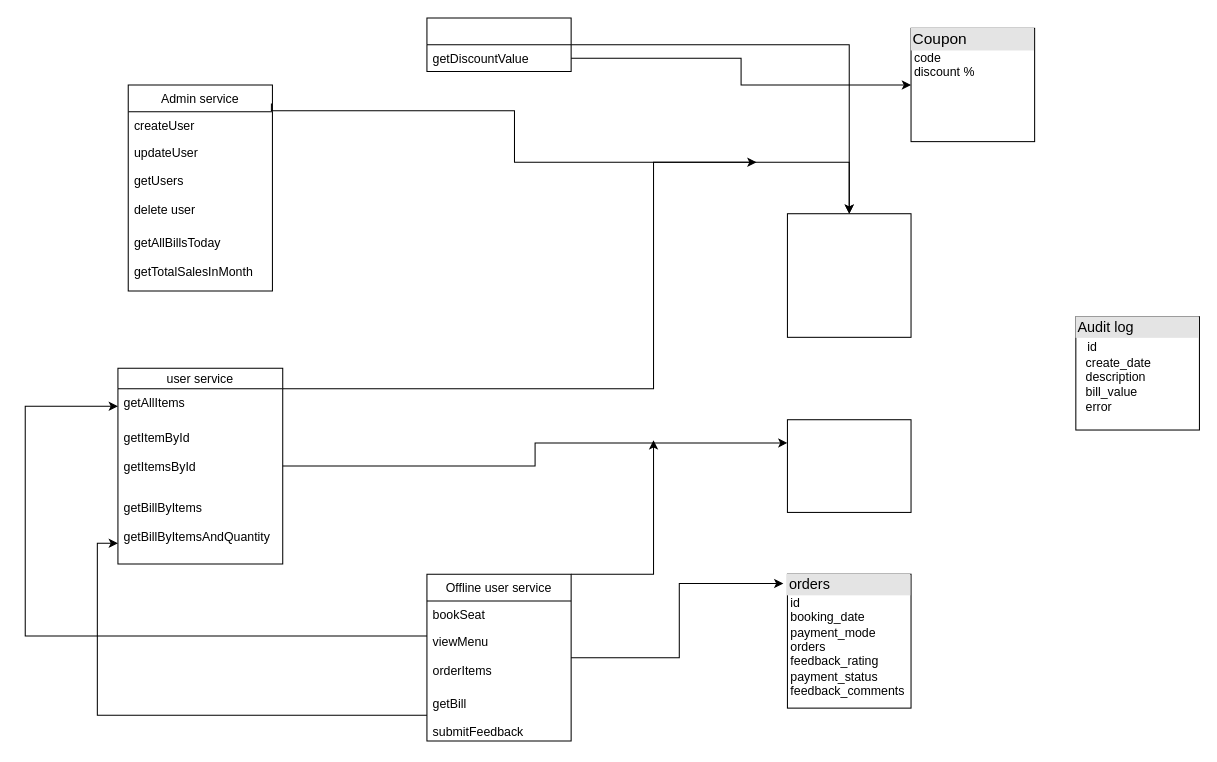
Some shapes in this 1217 by 762 pixel diagram are drawn without their labels. Here are the shapes that lost their labels. From the top down, the box of each, then its label:
(426, 17, 571, 72): Festive sale service
(786, 213, 911, 337): Users id username password enabled role
(786, 419, 911, 512): Items id name price
